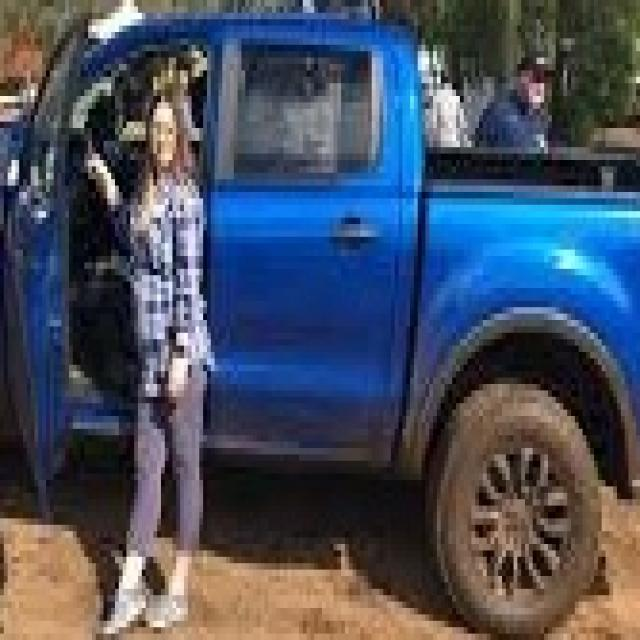blue: (0, 9, 640, 477)
